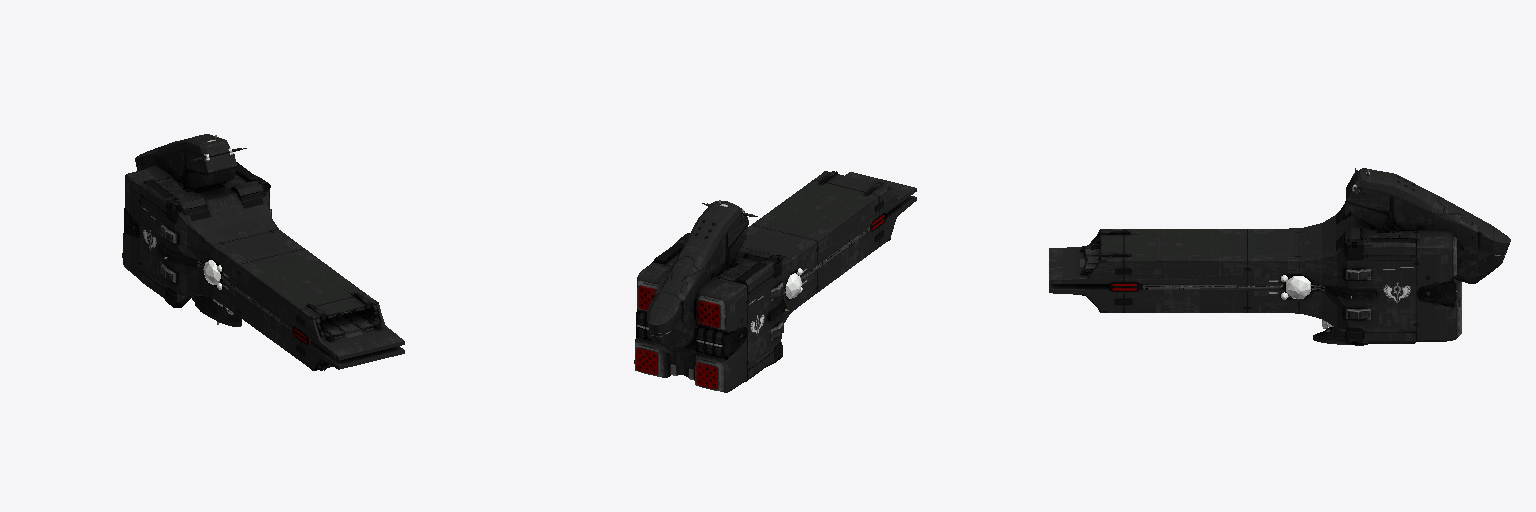
The picture shows the model from 3 angles: view 1: azimuth 30°, elevation 25°; view 2: azimuth 150°, elevation 25°; view 3: azimuth 270°, elevation 25°; orthographic projection.
Visible parts, largest first — view 1: Plane.001; view 2: Plane.001; view 3: Plane.001.
Part boxes in pixels (bbox=[...]): Plane.001: bbox=[122, 134, 404, 370]; Plane.001: bbox=[634, 171, 916, 392]; Plane.001: bbox=[1049, 168, 1510, 345].
Bounding box in the file's own units: 19.72 × 30.67 × 70.31.
Materials: 1 (1 with a texture image).